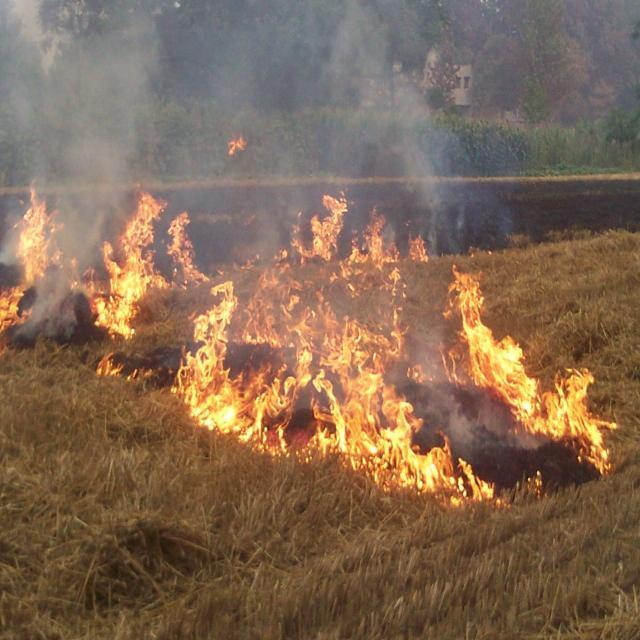Fire: (245, 269, 406, 452), (446, 264, 538, 398), (386, 396, 490, 502), (92, 193, 164, 342), (518, 368, 615, 476), (174, 281, 243, 432), (15, 184, 63, 280), (290, 190, 348, 264), (165, 209, 206, 285), (349, 210, 399, 268), (0, 284, 29, 335), (95, 350, 126, 380), (406, 228, 428, 262)
Smoke: (1, 2, 468, 184)
